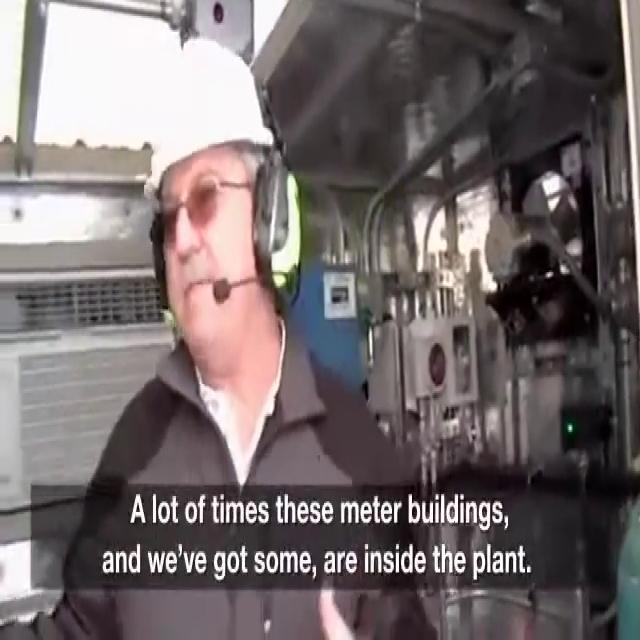earmuff: (250, 153, 306, 314)
helmet: (140, 32, 280, 216)
